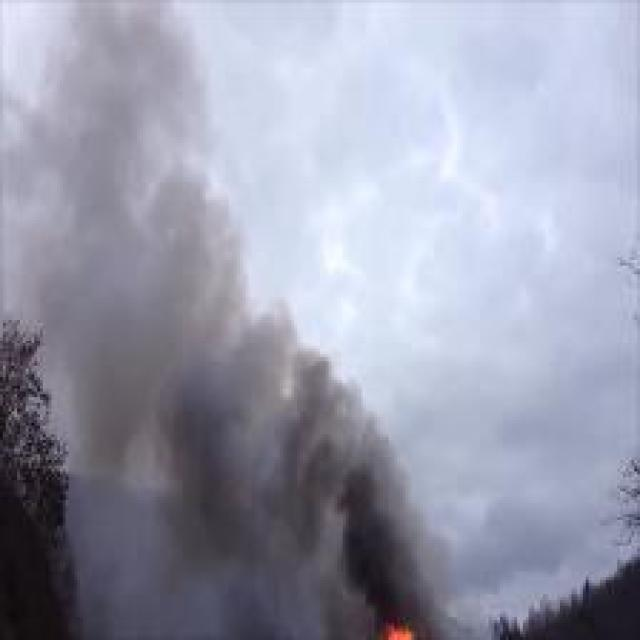fire: (371, 618, 420, 634)
smoke: (13, 66, 431, 591)
